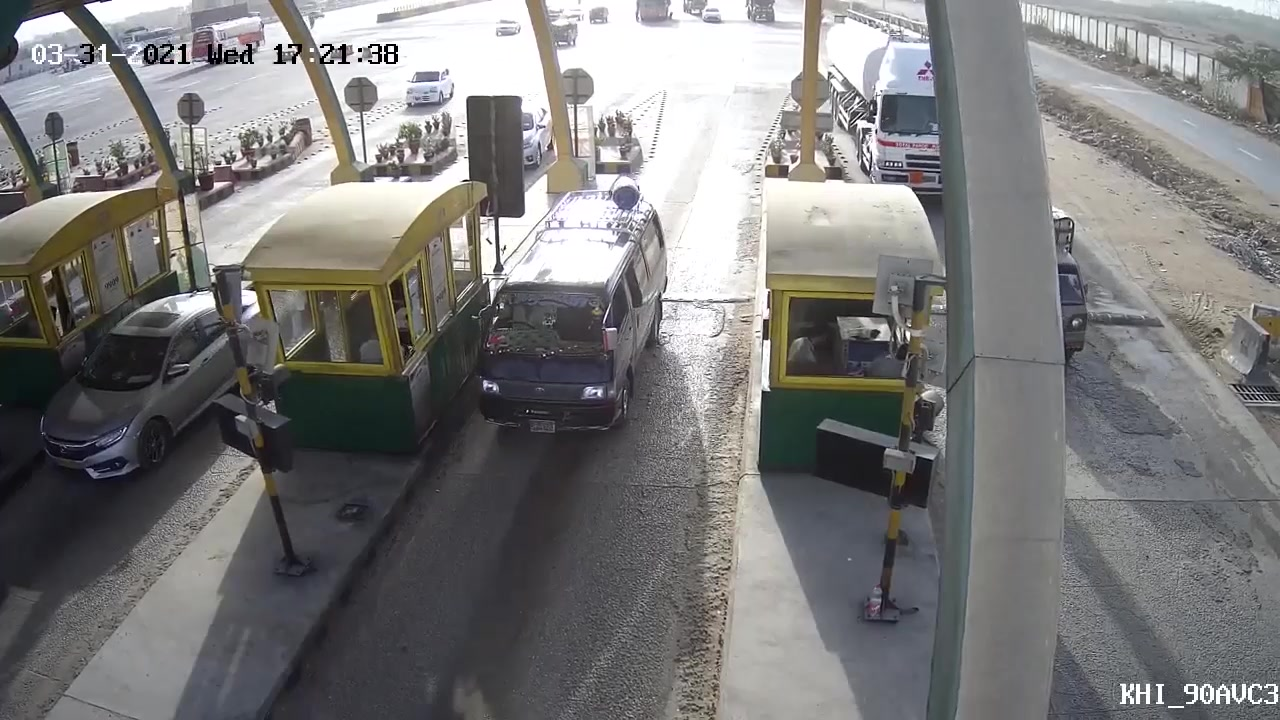F2: (468, 179, 669, 457)
